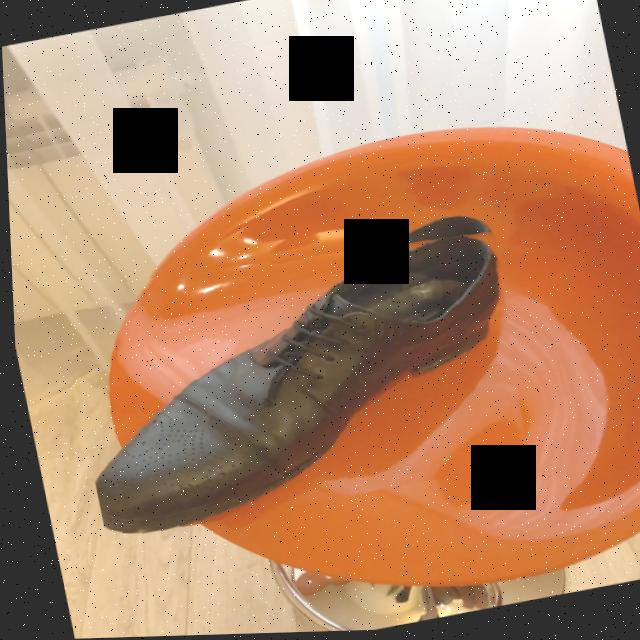shoe: (91, 235, 499, 538)
